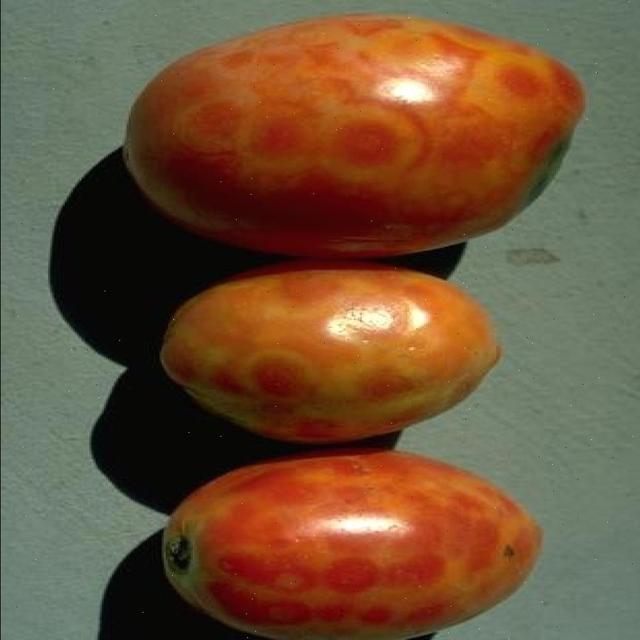Spotted wilt Virus Fruit: (222, 89, 308, 364)
